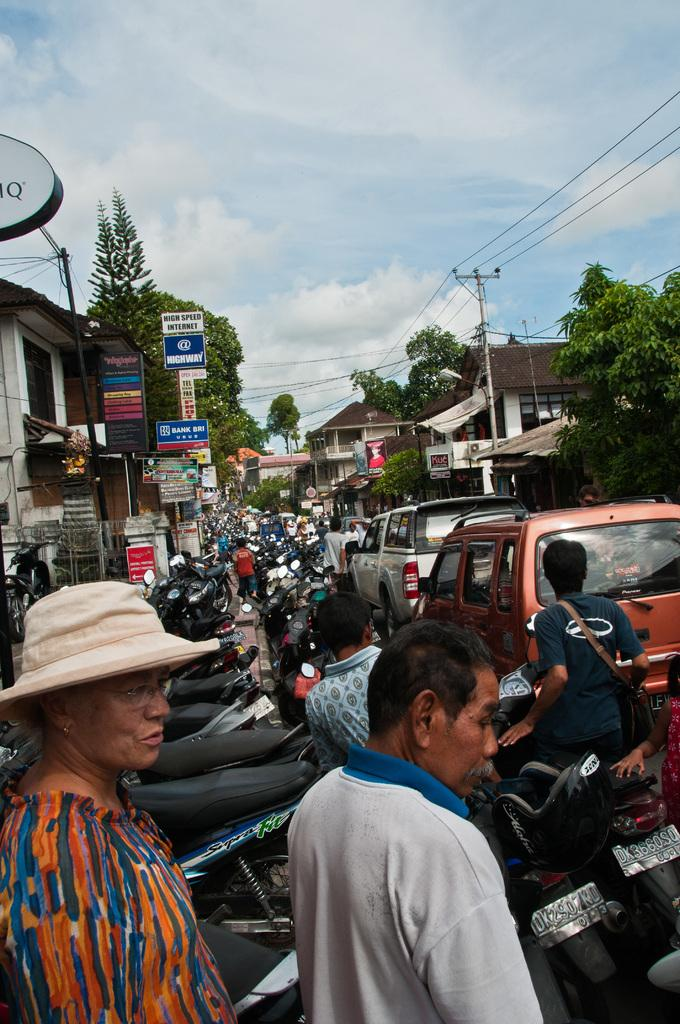Hat: (2, 581, 217, 721)
